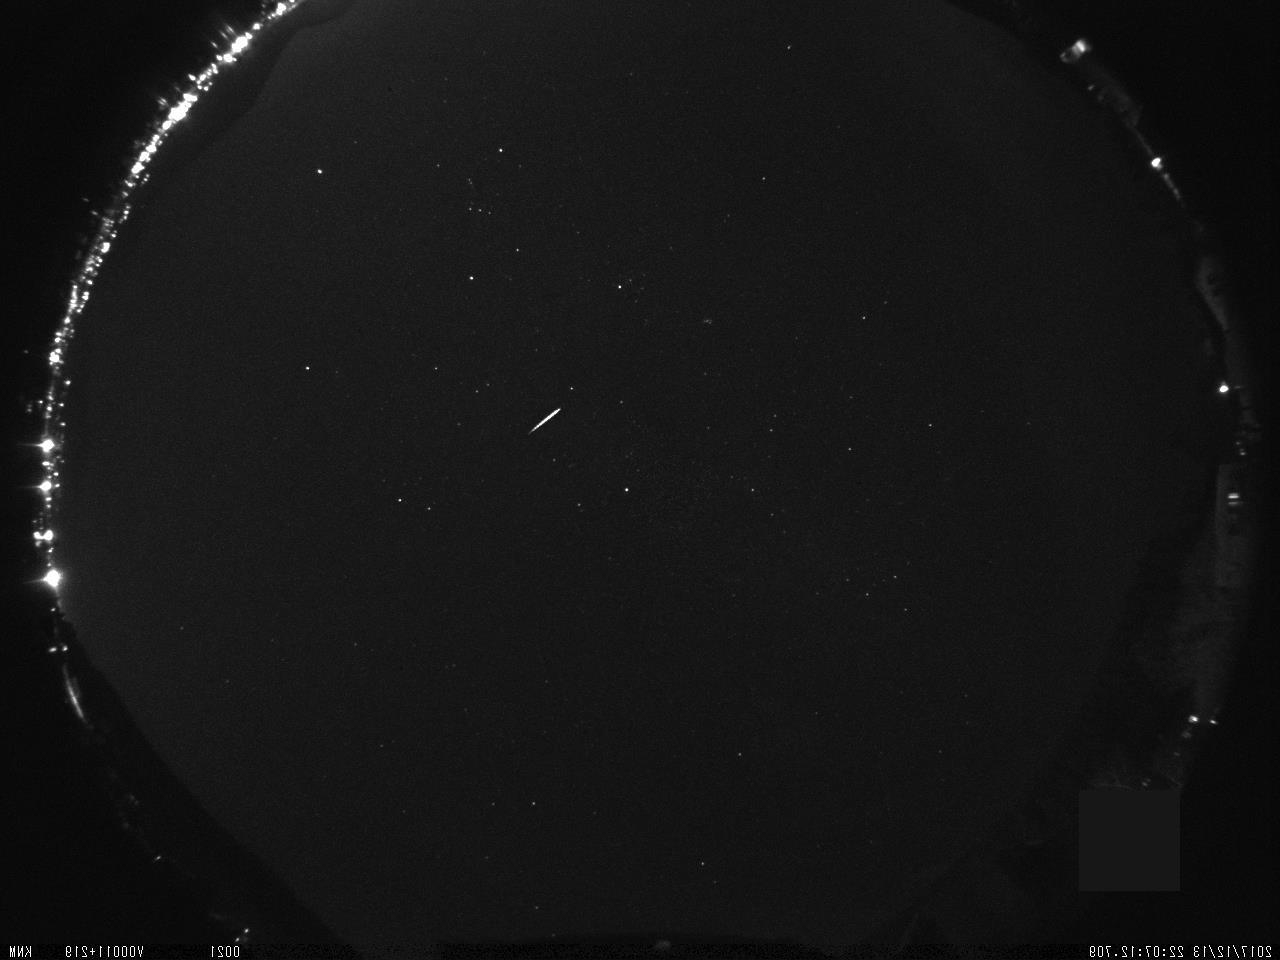meteor: (513, 402, 570, 447)
